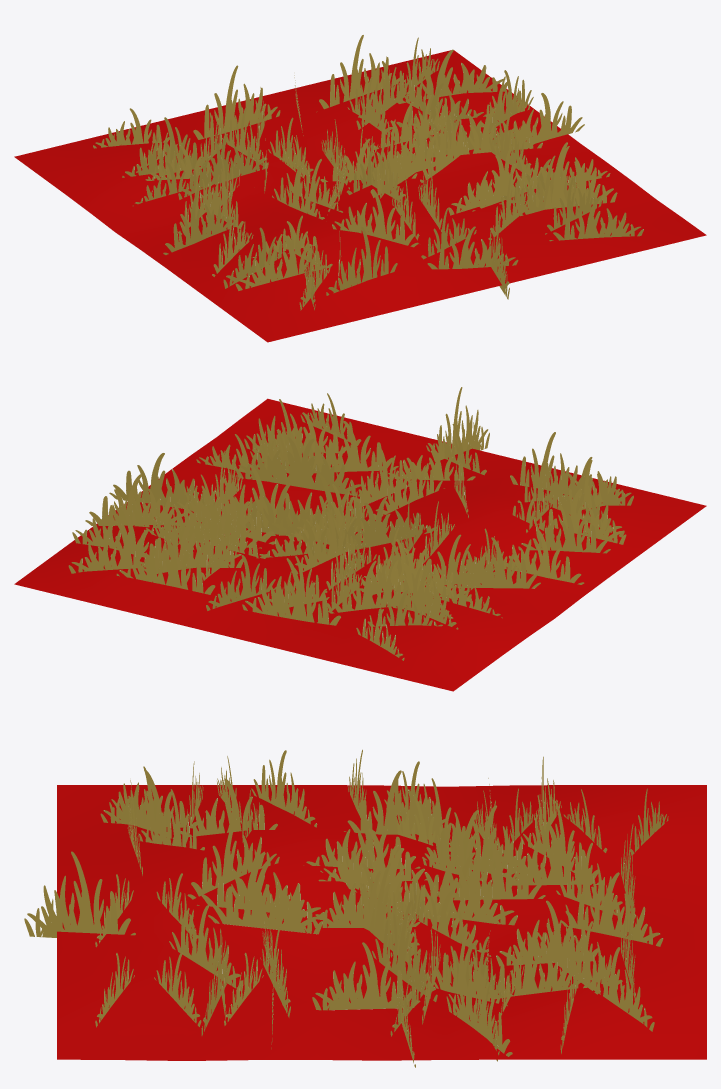
The model's file is FieldAlt1.fbx.
The picture shows the model from 3 angles, top to bottom: view 1: azimuth 30°, elevation 25°; view 2: azimuth 150°, elevation 25°; view 3: azimuth 270°, elevation 25°; orthographic projection. The views are drawn at different scales.
Parts seen in each view (by area): view 1: polySurface381; view 2: polySurface381; view 3: polySurface381.
Boxes of the visible parts, x1=… form: polySurface381: x1=14, y1=35, x2=706, y2=342; polySurface381: x1=14, y1=387, x2=706, y2=691; polySurface381: x1=24, y1=749, x2=706, y2=1067.
Size of the model in its own units: 1.06 by 0.1671 by 1.07.
